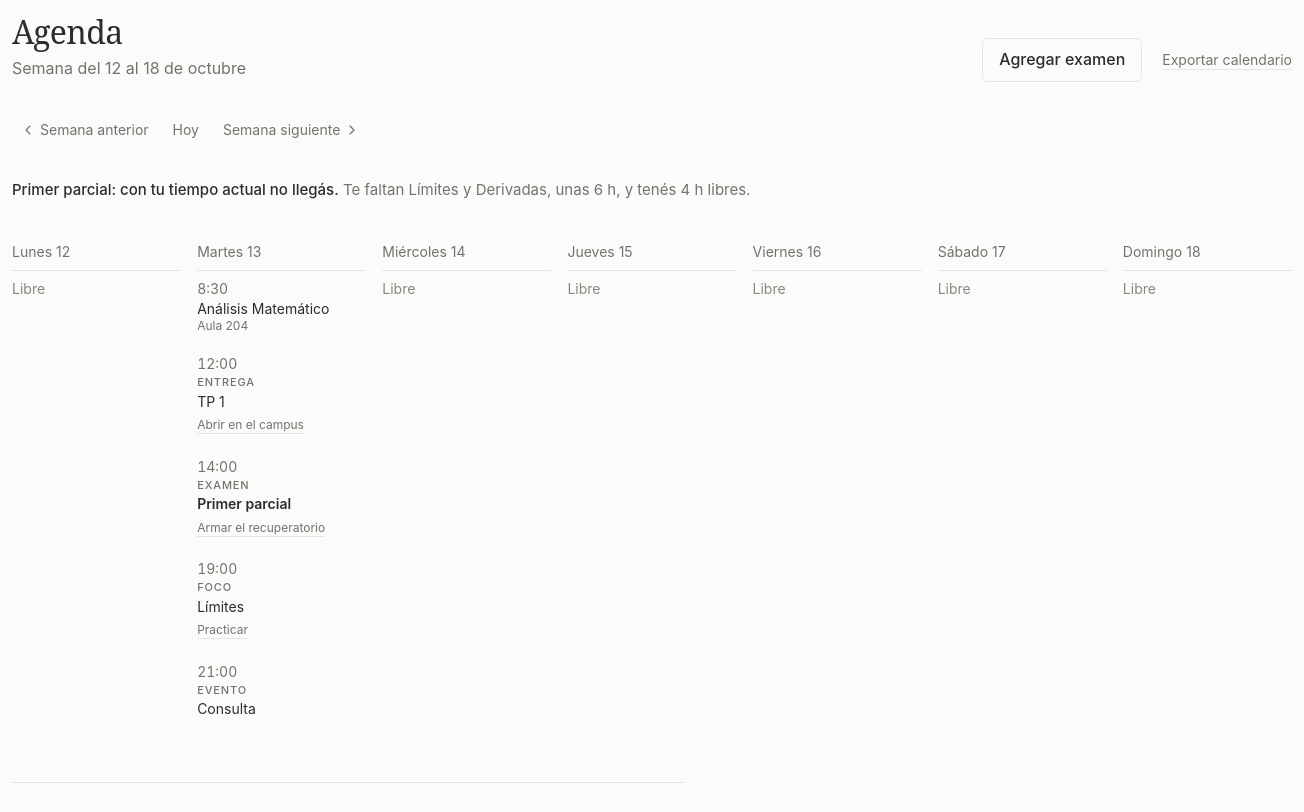
Test: Agenda › Armar el recuperatorio abre el alta con el tipo y la materia elegidos
Click the button "Armar el recuperatorio": (261, 528) [197,520,325,536]
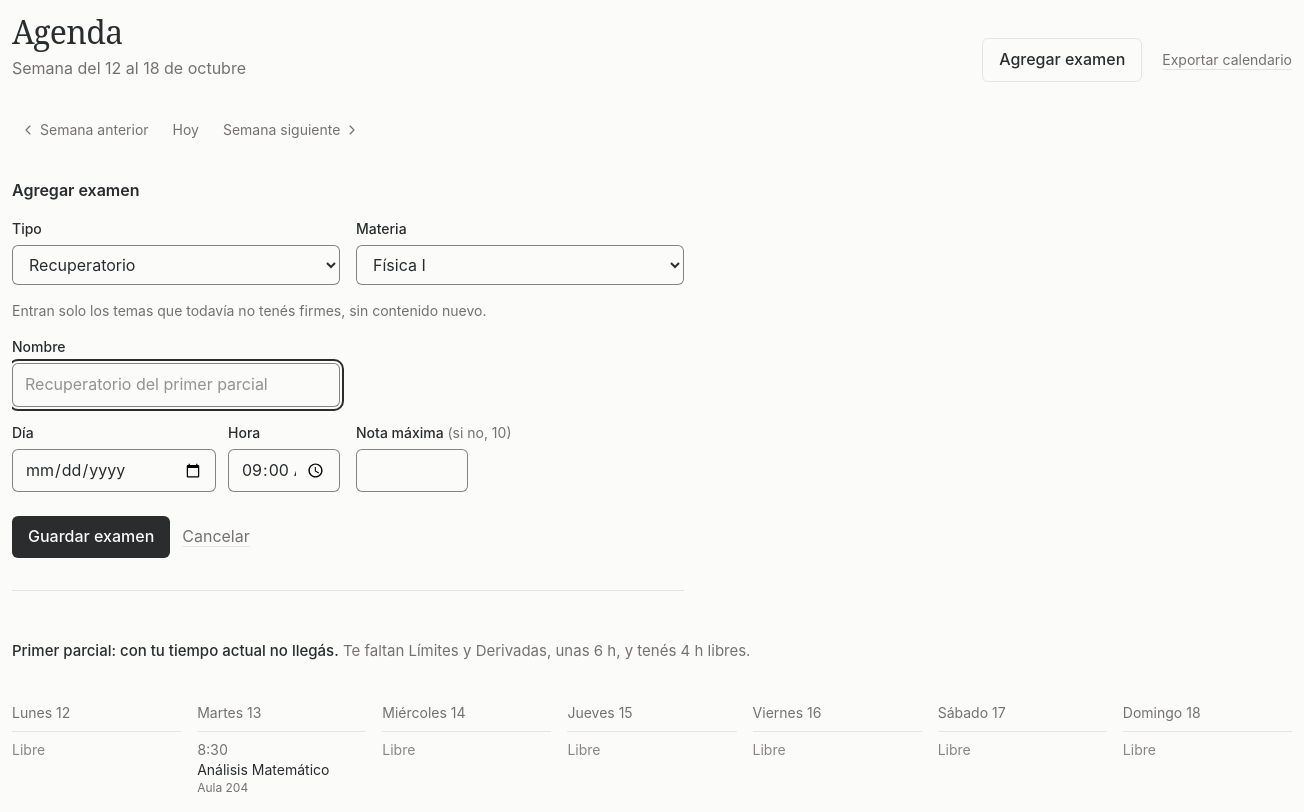
Expected: the dropdown labelled "Tipo" shows "Recuperatorio", [12,245,340,285]
Expected: the dropdown labelled "Materia" shows "Física I", [356,245,684,285]
Expected: the text "Entran solo los temas" is shown, [12,302,486,319]
